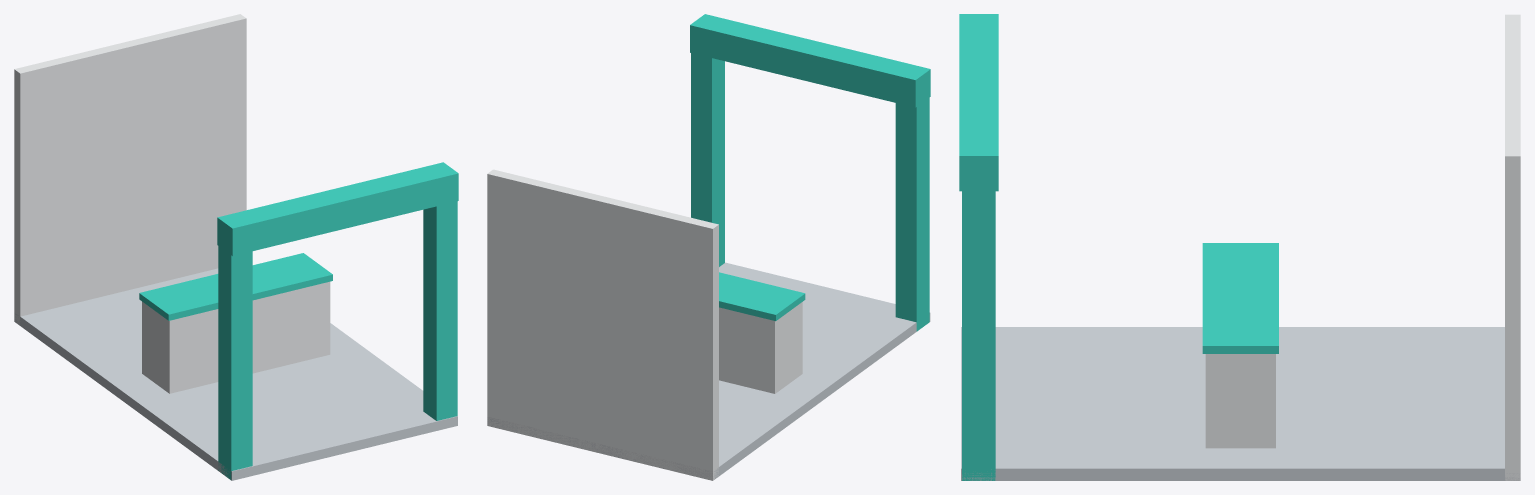
The picture shows the model from 3 angles, left to right: view 1: azimuth 30°, elevation 25°; view 2: azimuth 150°, elevation 25°; view 3: azimuth 270°, elevation 25°; orthographic projection. The views are drawn at different scales.
Visible parts, largest first — view 1: Exhibition Booth Concept; view 2: Exhibition Booth Concept; view 3: Exhibition Booth Concept.
Part boxes in pixels (x1,y1,x2,y2): Exhibition Booth Concept: [14, 14, 458, 480]; Exhibition Booth Concept: [487, 14, 930, 480]; Exhibition Booth Concept: [959, 14, 1520, 480].
Size of the model in its own units: 3 by 3.2 by 5.02.
